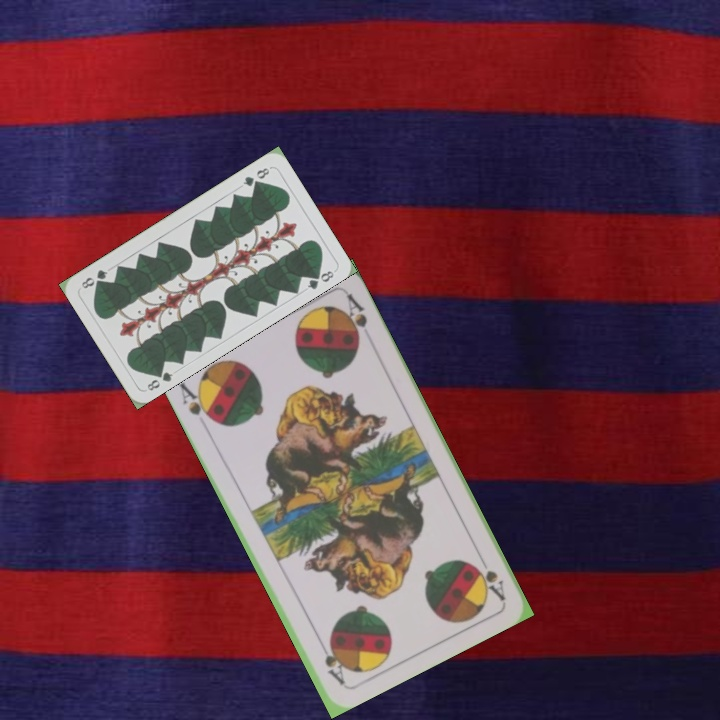G8: (143, 365, 176, 393), (239, 164, 273, 189)
SA: (469, 547, 508, 603), (175, 378, 217, 424)
